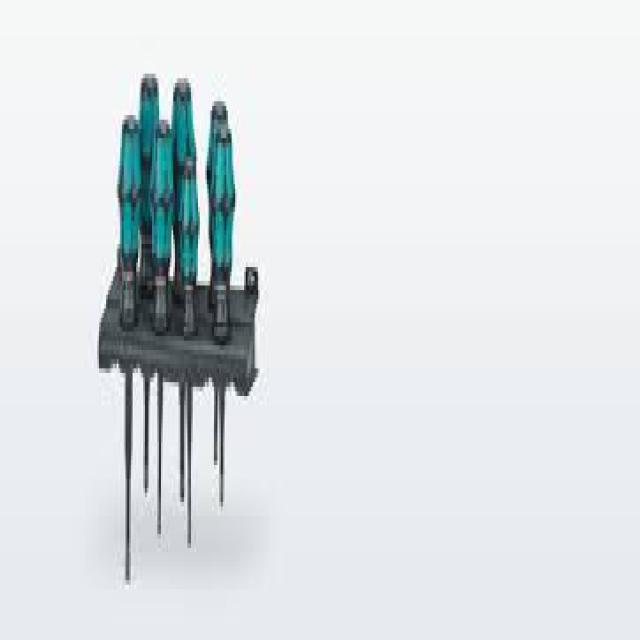screw driver: (101, 94, 148, 614), (205, 121, 244, 576), (174, 145, 206, 564)
